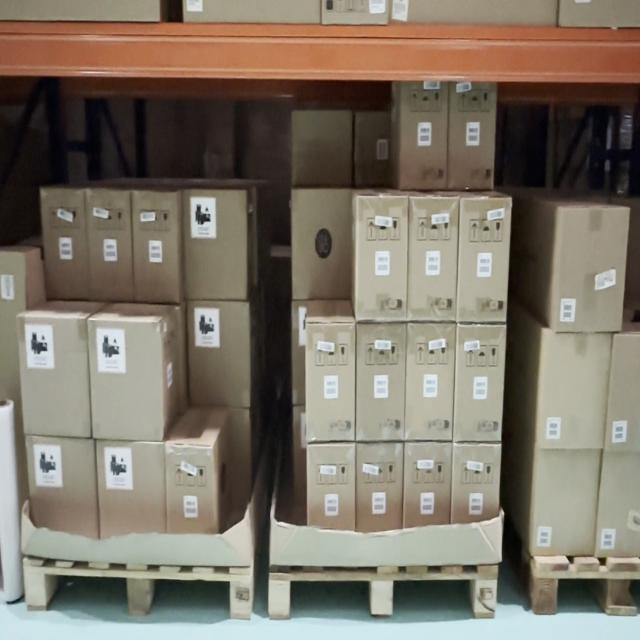box: (91, 325, 165, 444), (20, 321, 90, 436), (456, 196, 513, 325), (183, 189, 247, 299), (188, 302, 254, 404), (305, 323, 358, 442), (456, 326, 509, 443), (357, 199, 407, 320), (358, 322, 404, 442), (407, 326, 453, 442), (413, 201, 457, 318), (136, 193, 180, 303), (448, 88, 496, 185), (44, 192, 86, 302), (403, 87, 447, 189), (89, 189, 130, 294), (495, 617, 498, 618)
